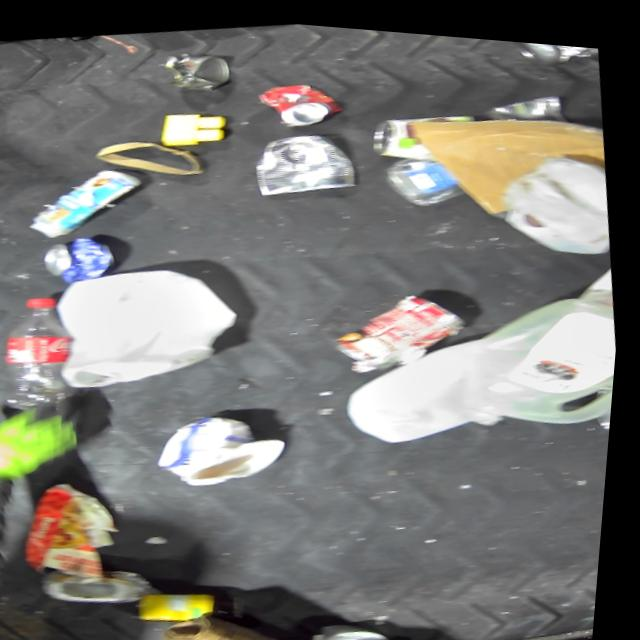can: (330, 275, 479, 376), (250, 119, 364, 200), (366, 98, 480, 163), (252, 70, 347, 131), (41, 228, 124, 288), (156, 42, 234, 96), (483, 80, 572, 124), (504, 32, 600, 64), (318, 607, 404, 640)
milk_jug: (48, 250, 253, 400), (455, 276, 624, 432), (341, 322, 498, 448), (494, 136, 620, 258)
plastic_bottle: (0, 289, 86, 413)
